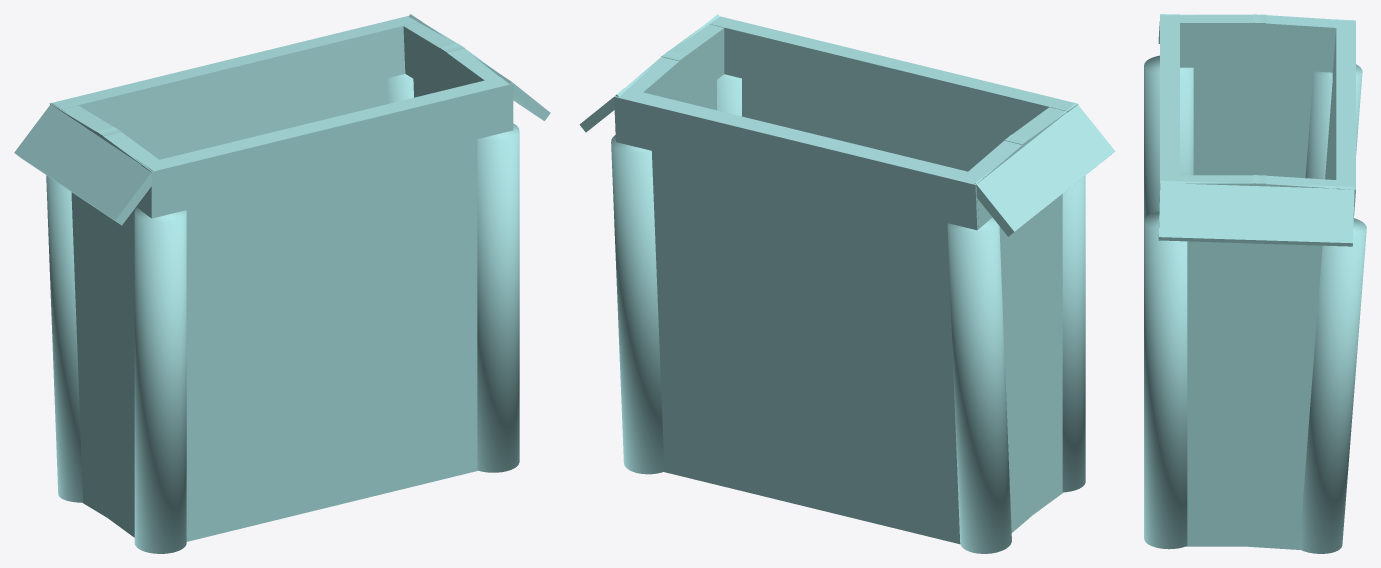
Rendered from bin.fbx.
3 views of the same model, side by side, from view 1: azimuth 30°, elevation 25°; view 2: azimuth 150°, elevation 25°; view 3: azimuth 270°, elevation 25° (orthographic). The views are drawn at different scales.
Parts seen in each view (by area): view 1: Bin; view 2: Bin; view 3: Bin.
Part boxes in pixels (left/top/right/bottom): Bin: left=14, top=14, right=550, bottom=553; Bin: left=579, top=14, right=1115, bottom=553; Bin: left=1144, top=14, right=1366, bottom=553.
Size of the model in its own units: 481 by 409 by 223.
